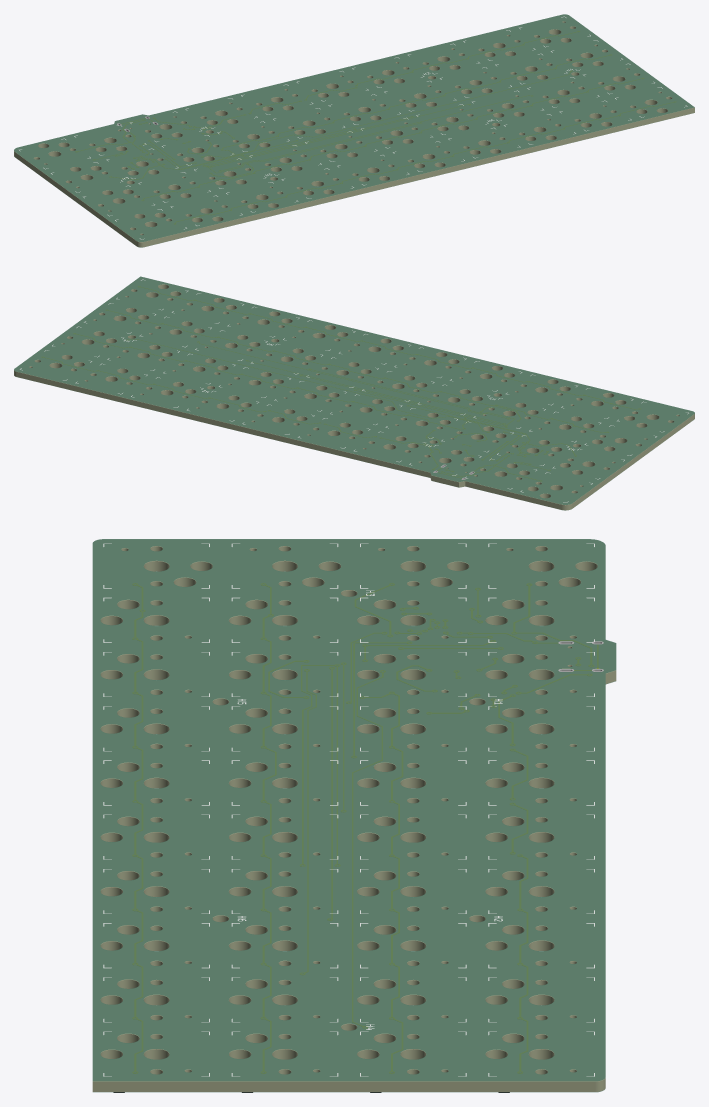
Rendered from board.glb.
The picture shows the model from 3 angles, top to bottom: view 1: azimuth 30°, elevation 25°; view 2: azimuth 150°, elevation 25°; view 3: azimuth 270°, elevation 25°; orthographic projection. The views are drawn at different scales.
Parts seen in each view (by area): view 1: board_PCB, board_soldermask, board_silkscreen; view 2: board_PCB, board_soldermask, board_silkscreen; view 3: board_PCB, board_soldermask, board_copper, board_silkscreen.
Boxes of the visible parts, box(x1,y1,x2,y2) form: board_PCB: box(14, 15, 694, 247); board_soldermask: box(14, 14, 694, 241); board_silkscreen: box(19, 16, 687, 239); board_PCB: box(14, 277, 694, 510); board_soldermask: box(14, 276, 694, 504); board_silkscreen: box(20, 279, 688, 502); board_PCB: box(92, 540, 616, 1091); board_soldermask: box(92, 539, 616, 1081); board_copper: box(133, 583, 598, 1073); board_silkscreen: box(103, 543, 594, 1076).
Size of the model in its own units: 0.17 by 0.00278 by 0.0694.
